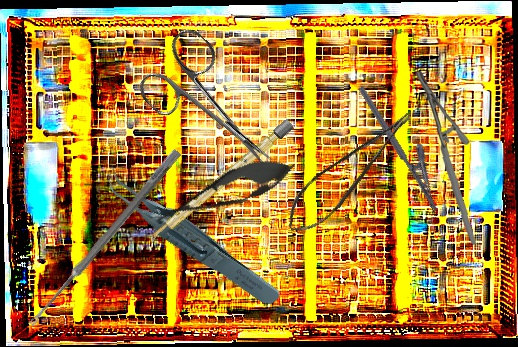Iris Scissors: (128, 23, 301, 193)
Micro Scissor: (273, 107, 431, 242), (146, 145, 302, 239)
Needle Holder: (357, 75, 456, 214), (409, 68, 482, 246)
Scalpel Handle: (146, 118, 295, 246)
Surgical Spoon: (26, 147, 182, 330)
Tissue Forceps: (98, 133, 284, 336)
